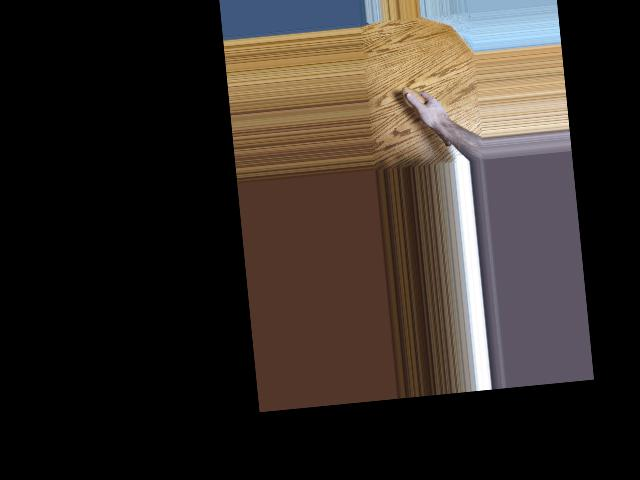sweet_potato: (401, 83, 452, 152)
